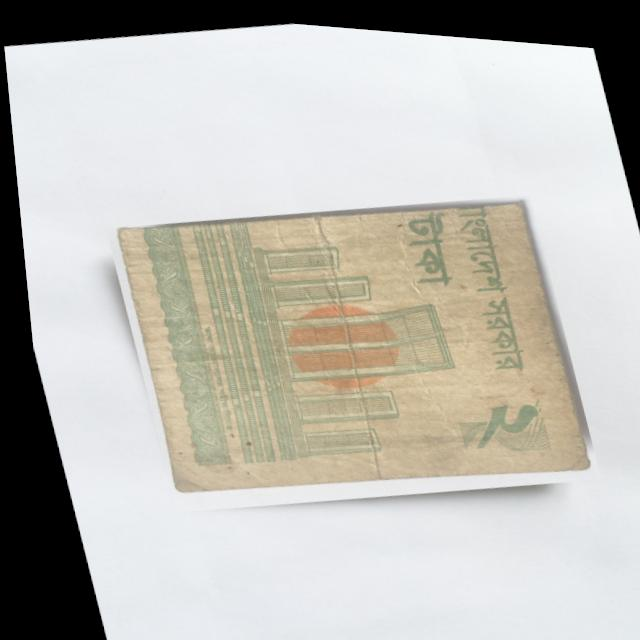Taka: (97, 158, 598, 538)
